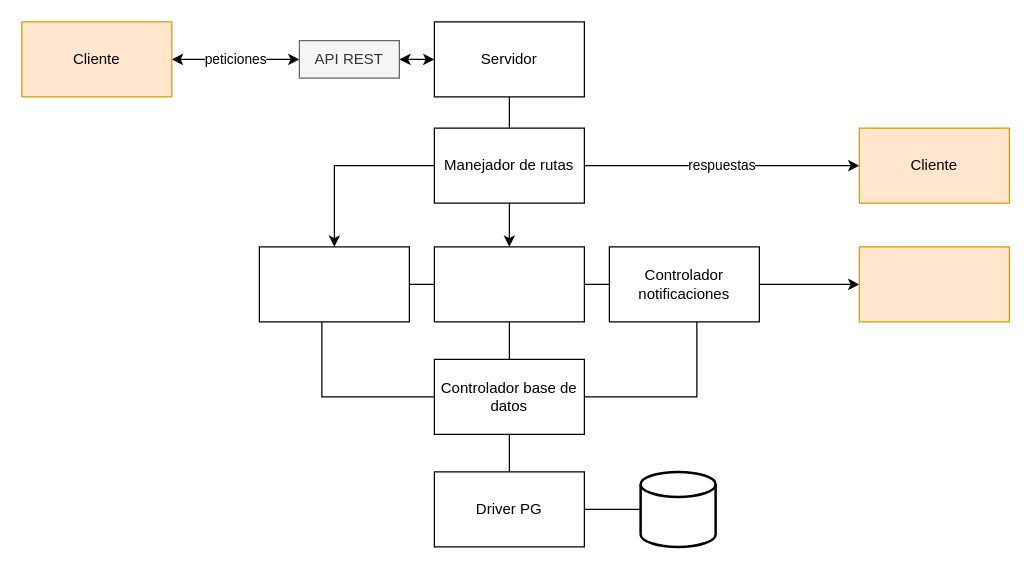
This 1031x570 diagram has some shape labels left out. Each missing label, with the centre of its shape:
BD: point (677, 509)
Cliente (correo): point (933, 284)
Controlador Productos: point (508, 284)
Controlador Usuarios: point (333, 284)
